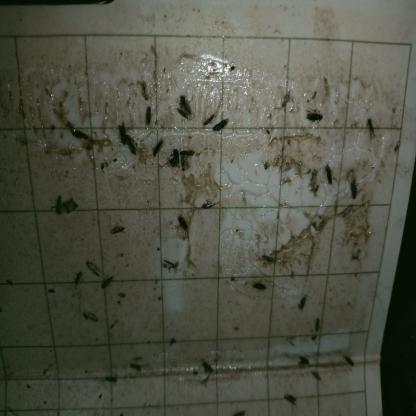prays_oleae: (300, 94, 328, 130), (175, 87, 197, 126), (194, 352, 218, 384), (320, 155, 338, 196), (278, 386, 302, 416), (67, 122, 92, 147), (248, 272, 269, 299), (127, 131, 142, 168), (80, 304, 104, 327), (137, 102, 156, 130), (167, 142, 185, 171), (361, 114, 379, 143), (129, 354, 145, 384), (340, 342, 356, 371), (180, 145, 196, 174), (53, 190, 67, 223), (214, 111, 232, 136), (109, 217, 126, 242), (99, 268, 115, 294), (176, 212, 192, 238), (294, 351, 311, 375), (162, 250, 179, 274), (294, 289, 309, 316), (82, 259, 102, 278), (68, 270, 87, 290), (201, 106, 215, 133), (347, 173, 360, 201), (151, 136, 166, 160), (309, 364, 324, 388), (229, 402, 250, 416), (102, 369, 120, 385), (260, 250, 277, 265), (312, 318, 324, 332)
